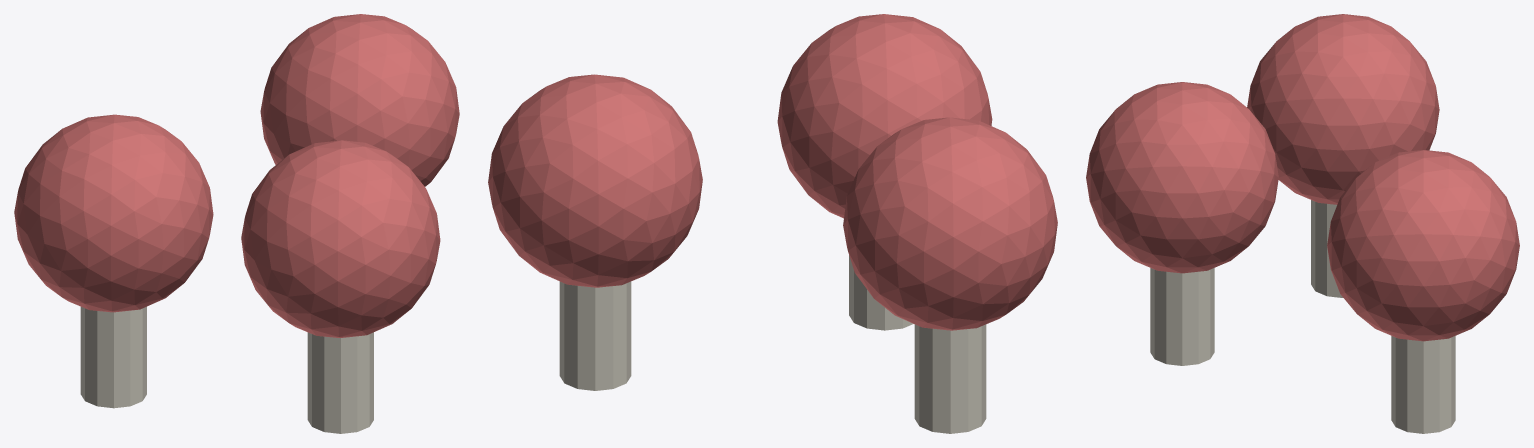
Rendered from mushroom_cluster.glb.
3 renders of one model, left to right at view 1: azimuth 30°, elevation 25°; view 2: azimuth 150°, elevation 25°; view 3: azimuth 270°, elevation 25°, orthographic. The views are drawn at different scales.
Visible parts, largest first — view 1: world; view 2: world; view 3: world.
Boxes of the visible parts, x1=… form: world: x1=14, y1=14, x2=459, y2=433; world: x1=488, y1=14, x2=1057, y2=433; world: x1=1086, y1=14, x2=1519, y2=433.
Size of the model in its own units: 0.32 by 0.18 by 0.27.
